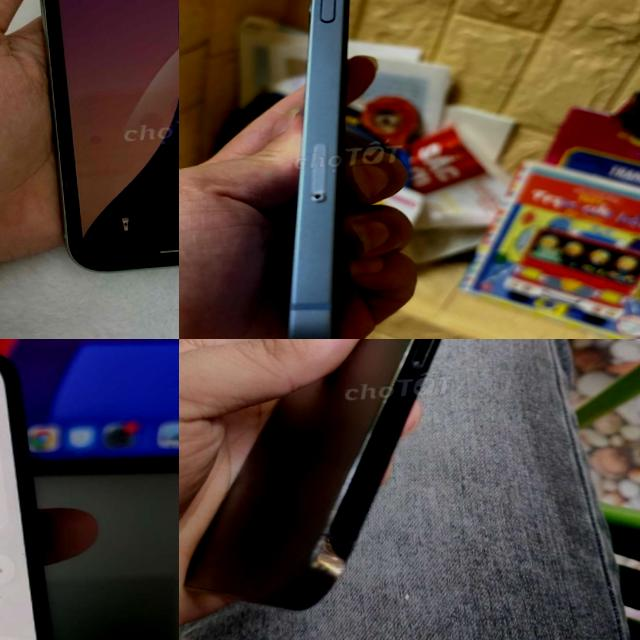gen_11: (19, 0, 179, 281)
gen_12_13: (179, 339, 549, 630), (0, 341, 73, 640)
gen_14: (237, 0, 401, 339)
